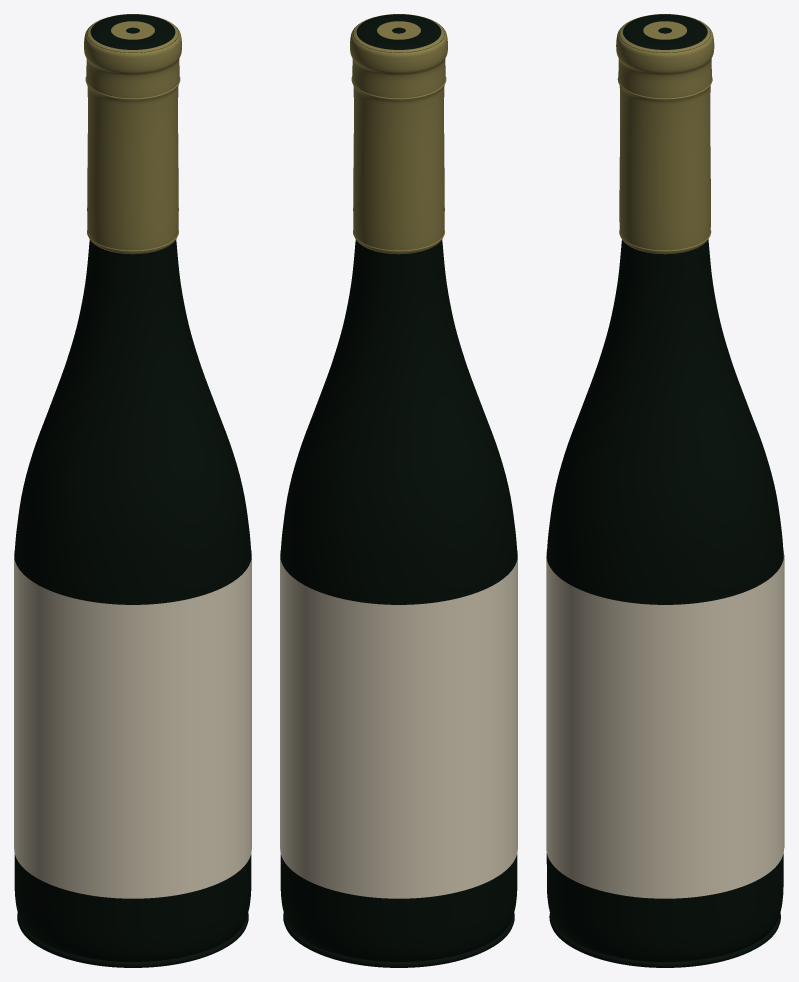
File: nocturne-half.glb
3 renders of one model, left to right at view 1: azimuth 30°, elevation 25°; view 2: azimuth 150°, elevation 25°; view 3: azimuth 270°, elevation 25°, orthographic.
Visible parts, largest first — view 1: Dark green glass, Warm uncoated paper, full wrap, Rolled metallic capsule with curved lip, Nocturne Cabernet bottle; view 2: Dark green glass, Warm uncoated paper, full wrap, Rolled metallic capsule with curved lip, Nocturne Cabernet bottle; view 3: Dark green glass, Warm uncoated paper, full wrap, Rolled metallic capsule with curved lip, Nocturne Cabernet bottle.
Part boxes in pixels (bbox=[...]): Dark green glass: bbox=[14, 14, 251, 961]; Warm uncoated paper, full wrap: bbox=[14, 549, 251, 898]; Rolled metallic capsule with curved lip: bbox=[84, 14, 181, 254]; Nocturne Cabernet bottle: bbox=[17, 76, 248, 967]; Dark green glass: bbox=[280, 14, 517, 961]; Warm uncoated paper, full wrap: bbox=[280, 549, 517, 898]; Rolled metallic capsule with curved lip: bbox=[350, 14, 447, 254]; Nocturne Cabernet bottle: bbox=[283, 76, 514, 967]; Dark green glass: bbox=[546, 14, 783, 961]; Warm uncoated paper, full wrap: bbox=[546, 550, 783, 898]; Rolled metallic capsule with curved lip: bbox=[616, 14, 714, 254]; Nocturne Cabernet bottle: bbox=[549, 77, 784, 967].
Size of the model in its own units: 0.6384 by 2.64 by 0.6399.
